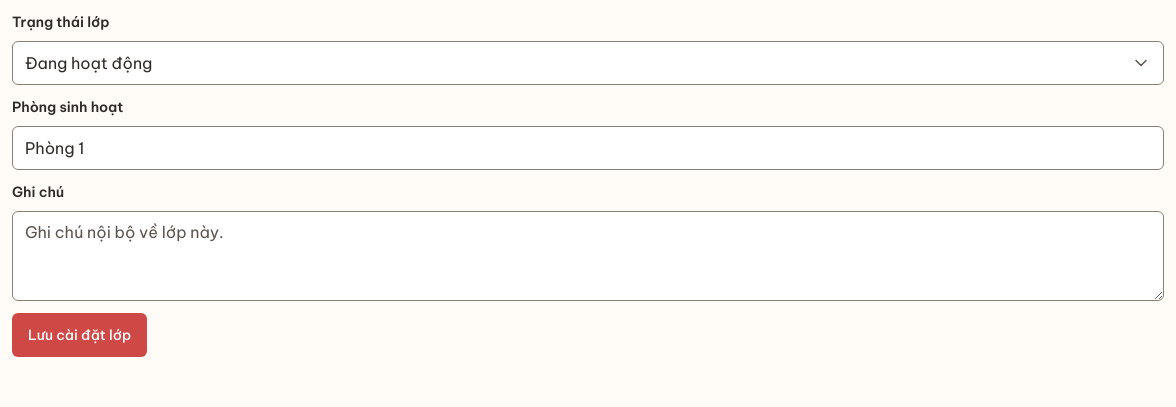
mọi thao tác ghi nói ra kết quả (D-61 / AC-M02-04) › thành công: nêu trạng thái vừa lưu, không phải 'Đã lưu' suông
The image size is (1176, 407).
Step 1. Click the button "Lưu cài đặt lớp" → point(80, 335), box [12, 313, 147, 357]
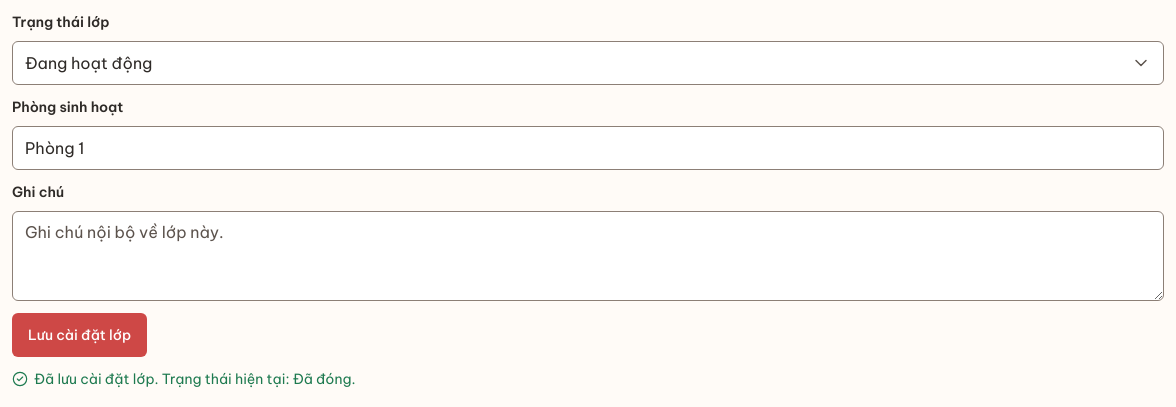
Check: the text "Đã lưu cài đặt lớp. Trạng thái hiện tại: Đã đóng." is shown, box [34, 369, 356, 390]
